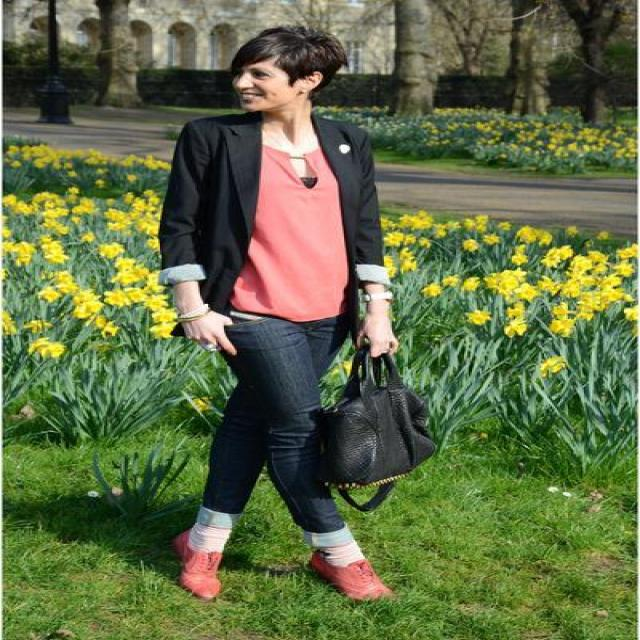bag: (301, 348, 440, 498)
jacket: (154, 94, 400, 354)
pants: (200, 316, 344, 532)
shirt: (232, 144, 347, 319)
shoe: (173, 530, 389, 600)
